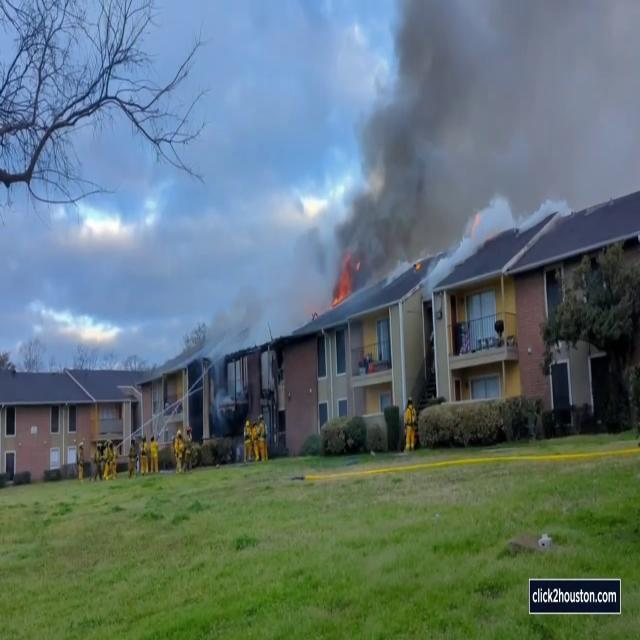Fire: (330, 266, 352, 308)
Smoke: (333, 0, 584, 278)
